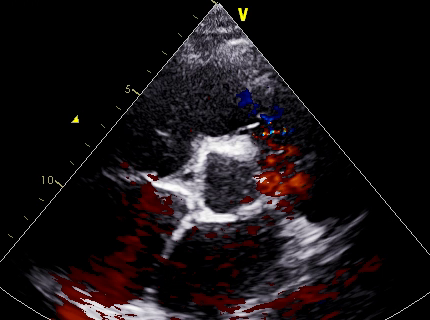PR: (255, 136, 320, 230)
